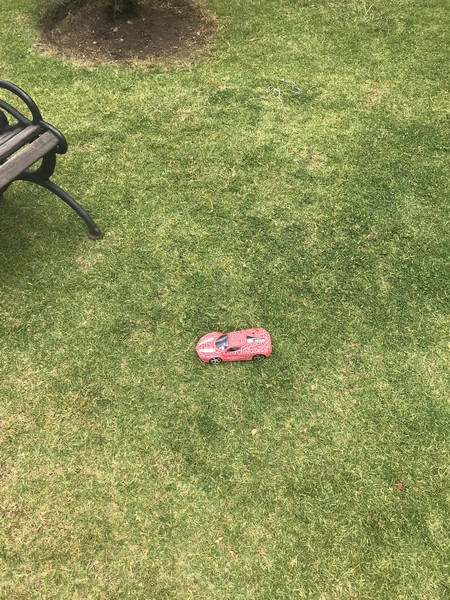RC: (192, 329, 274, 364)
